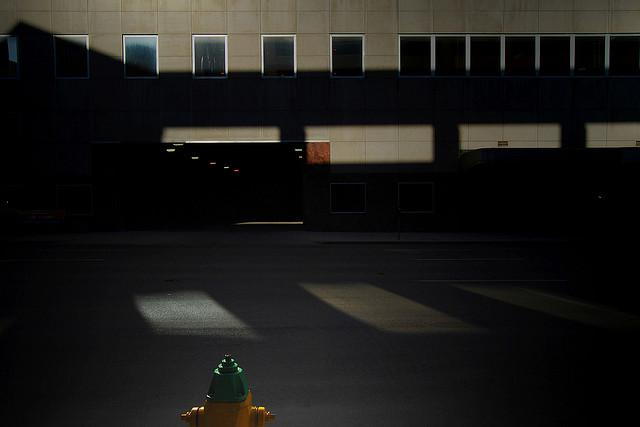Train: (2, 2, 640, 227)
